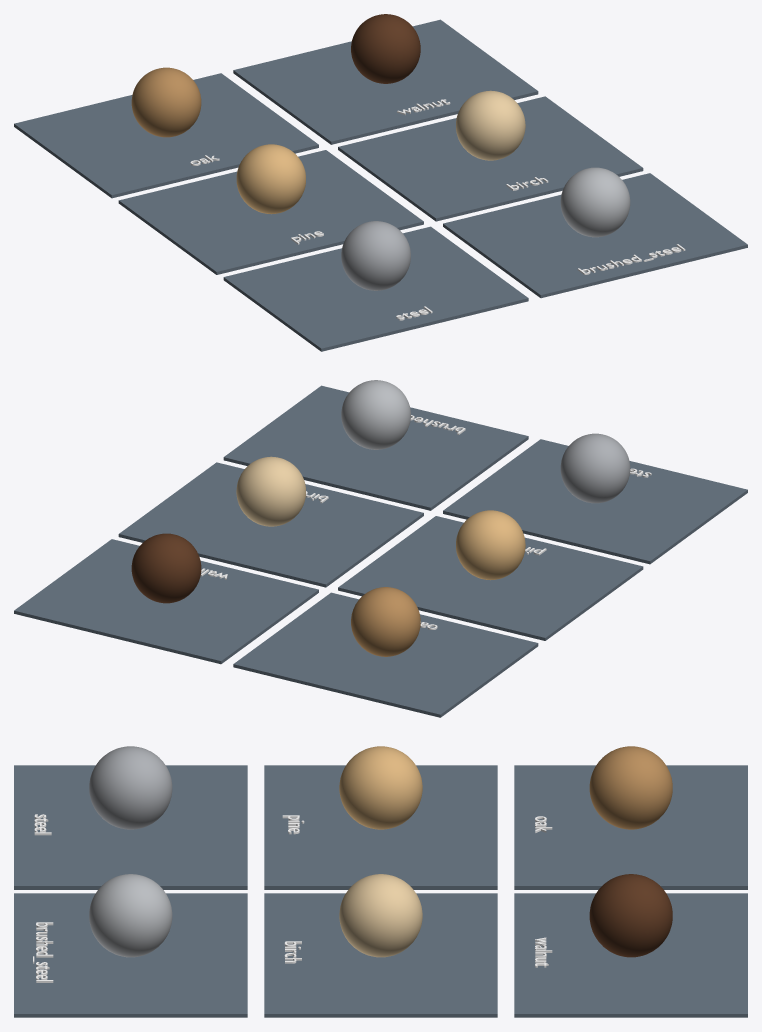
File: mat_presets.glb
The picture shows the model from 3 angles, top to bottom: view 1: azimuth 30°, elevation 25°; view 2: azimuth 150°, elevation 25°; view 3: azimuth 270°, elevation 25°; orthographic projection. The views are drawn at different scales.
Parts seen in each view (by area): view 1: tile, brushed_steel, oak, walnut, birch, pine, steel, label; view 2: tile, walnut, steel, brushed_steel, birch, oak, pine, label; view 3: tile, pine, brushed_steel, walnut, birch, oak, steel, label.
Boxes of the visible parts, box(x1,y1,x2,y2) form: tile: box(14, 19, 747, 351); brushed_steel: box(560, 167, 630, 237); oak: box(131, 67, 201, 137); walnut: box(351, 14, 420, 83); birch: box(456, 90, 525, 160); pine: box(236, 144, 305, 214); steel: box(341, 221, 410, 290); label: box(190, 99, 685, 320); tile: box(14, 385, 747, 717); walnut: box(131, 533, 201, 603); steel: box(560, 433, 630, 503); brushed_steel: box(341, 380, 410, 449); birch: box(236, 456, 305, 526); oak: box(351, 587, 420, 656); pine: box(456, 510, 525, 580); label: box(200, 415, 651, 629); tile: box(14, 765, 747, 1017); pine: box(339, 746, 422, 829); brushed_steel: box(89, 874, 172, 957); walnut: box(589, 874, 672, 957); birch: box(339, 874, 422, 957); oak: box(589, 746, 672, 829); steel: box(89, 746, 172, 829); label: box(33, 814, 552, 982).
Size of the model in its own units: 0.282 by 0.042 by 0.352.
